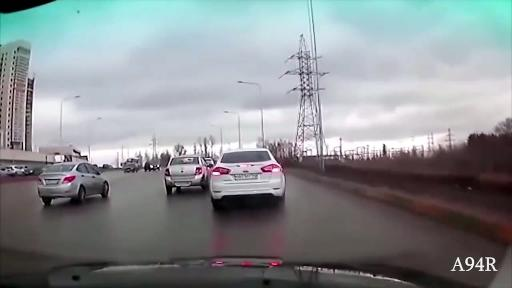CAR: (210, 144, 288, 207), (33, 157, 115, 207), (159, 153, 206, 190)
